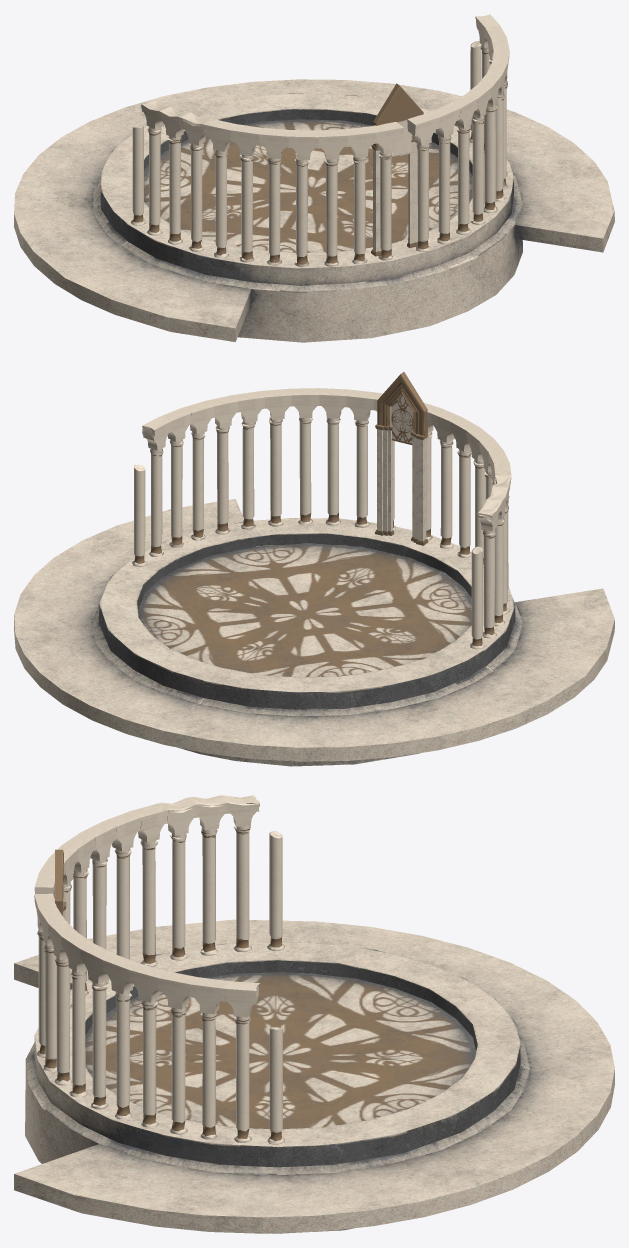
Rendered from BattleArena.gltf.
The picture shows the model from 3 angles, top to bottom: view 1: azimuth 30°, elevation 25°; view 2: azimuth 150°, elevation 25°; view 3: azimuth 270°, elevation 25°; orthographic projection. The views are drawn at different scales.
Parts seen in each view (by area): view 1: Mesh; view 2: Mesh; view 3: Mesh.
Part boxes in pixels (x1,y1,x2,y2): Mesh: (14,14,614,342); Mesh: (14,372,614,766); Mesh: (14,795,614,1233).
Bounding box in the file's own units: 527 × 228 × 449.
10 materials, 10 textured.
